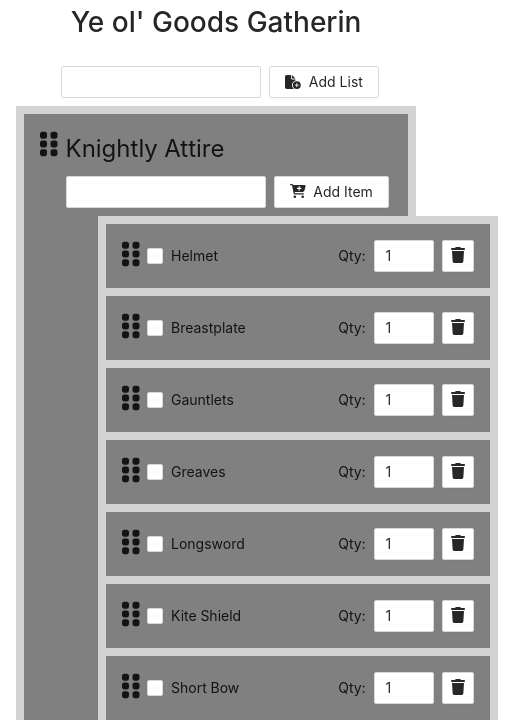
Main App Page › list can be added
// type into input
Type "Test List" into the field named "add-list" at coordinates (161, 82), box [61,66,261,98]
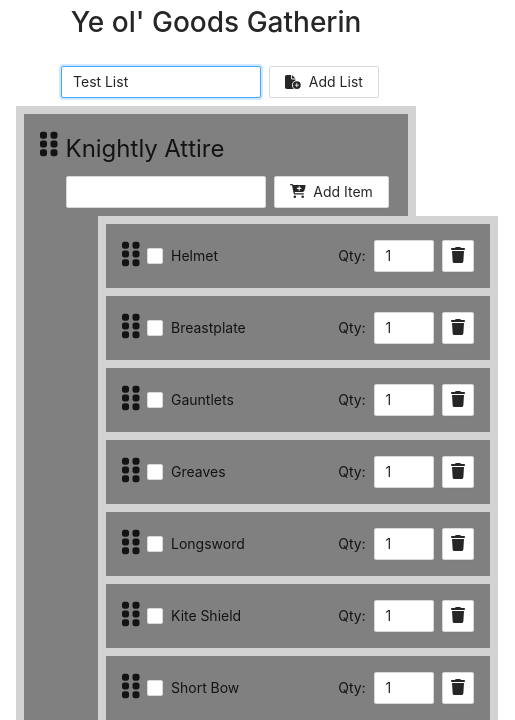
// click add list button
Click the button "Add List" at coordinates (324, 82), box [269,66,379,98]
(page scrolled)
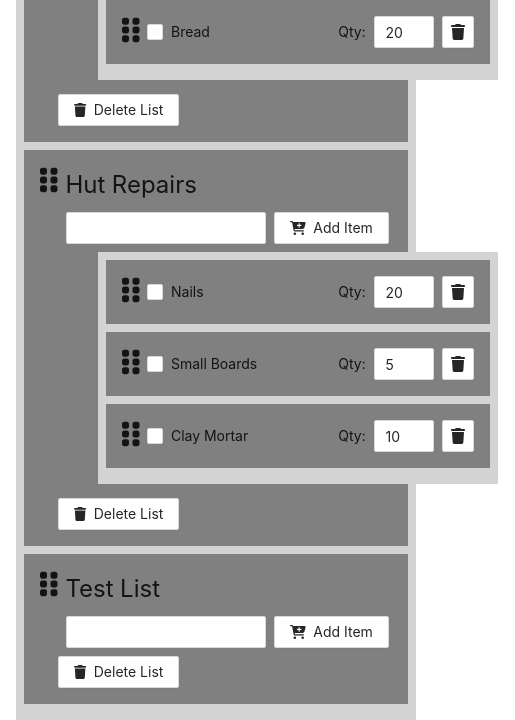
Now the number of elements with test id "ListHeaderTestId" is 4
Now the header with test id "ListHeaderTestId" reads "Test List", box [66,574,160,603]
